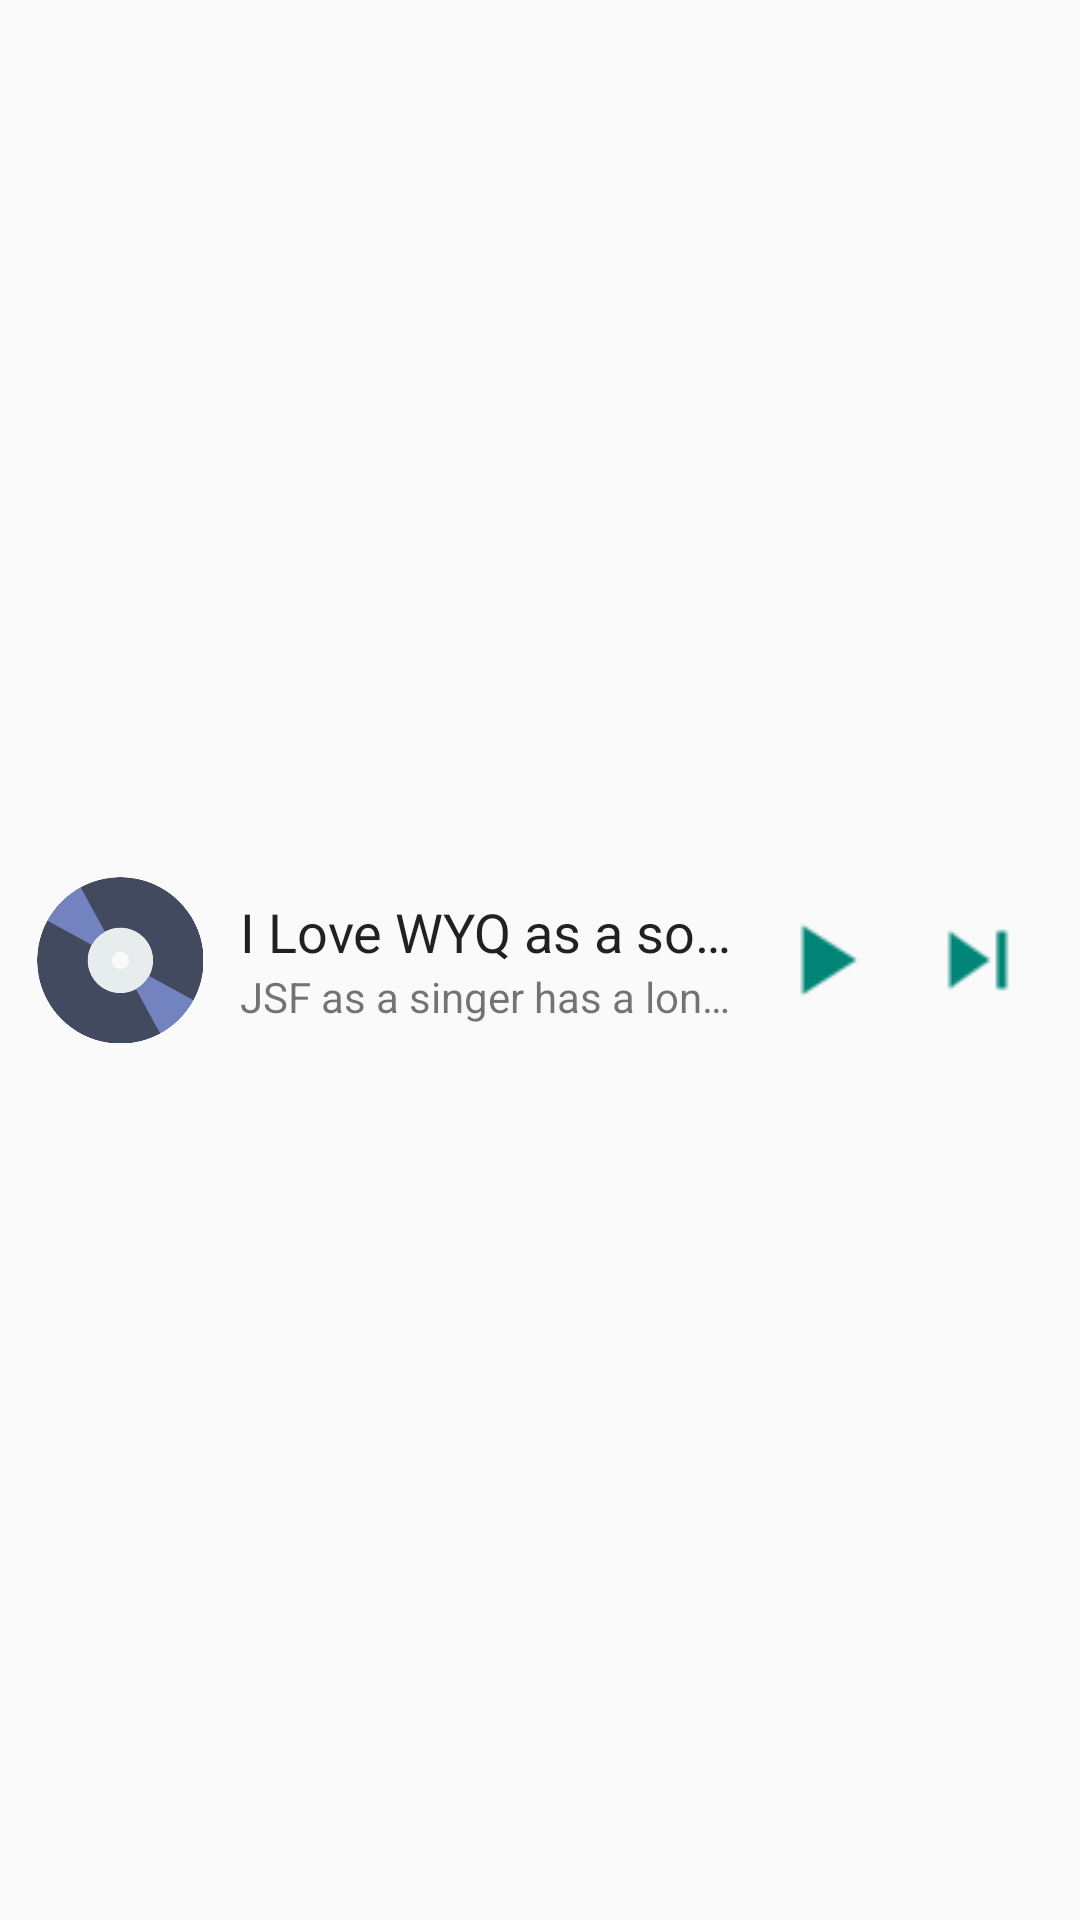

Point at icon controls on the screen. Image size 1080 x 1920, points as point (x, y).
Album art image button: point (120, 960)
